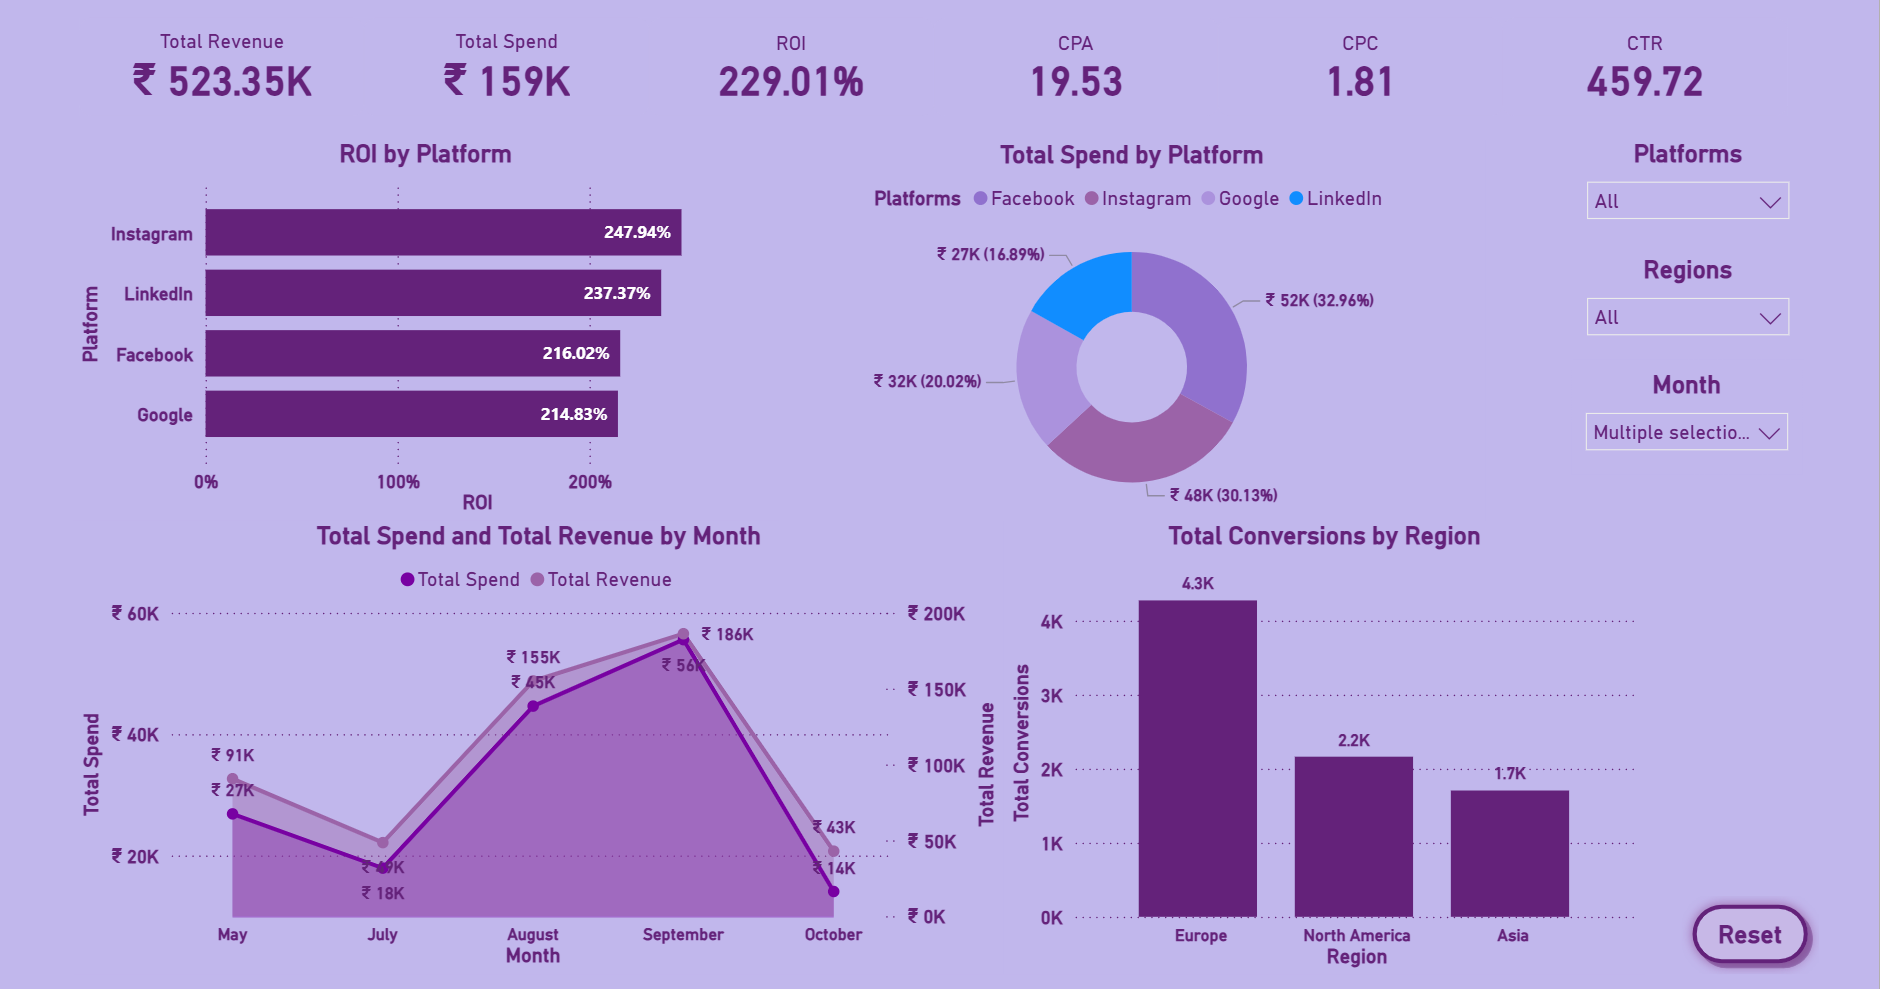

Layout of this report page (visuals, bound fields, positions):
{"tool":"powerbi","page":{"name":"Page 1","canvas":[1280,720],"ordinal":0},"visuals":[{"type":"cardVisual","fields":{"Data":["CampaignPerformance.Total Revenue","CampaignPerformance.Total Spend","CampaignPerformance.ROI","CampaignPerformance.CPA","CampaignPerformance.CPC","CampaignPerformance.CTR"]},"box":[10.3,8,1257.8,81.6],"z":0},{"type":"clusteredBarChart","fields":{"Category":["CampaignInfo.Platform"],"Y":["CampaignPerformance.ROI"]},"box":[10.3,101.1,513.5,278],"z":1000},{"type":"donutChart","fields":{"Category":["CampaignInfo.Platform"],"Y":["CampaignPerformance.Total Spend"]},"box":[523.8,102.2,513.5,278],"z":2000},{"type":"lineChart","fields":{"Category":["CampaignInfo.StartDate.Variation.Date Hierarchy.Month"],"Y":["CampaignPerformance.Total Spend"],"Y2":["CampaignPerformance.Total Revenue"]},"box":[10.7,379,676.2,329.2],"z":3000},{"type":"clusteredColumnChart","fields":{"Category":["CampaignInfo.Region"],"Y":["CampaignPerformance.Total Conversions"]},"box":[686.9,379.1,466.4,329.7],"z":4000},{"type":"slicer","title":"Platforms","fields":{"Values":["CampaignInfo.Platform"]},"box":[1100.7,101,167.6,76.1],"z":5000},{"type":"slicer","title":"Regions","fields":{"Values":["CampaignInfo.Region"]},"box":[1100.7,185.4,167.6,76.1],"z":7000},{"type":"slicer","title":"Month","fields":{"Values":["CampaignInfo.StartDate.Variation.Date Hierarchy.Month"]},"box":[1100.5,268.8,167.7,75.8],"z":8000},{"type":"actionButton","box":[1179.7,650.2,99.9,58.6],"z":8001}]}

Visuals, with their boxes on the page's 1280x720 design canvas (x1, y1, x2, y2). These are canvas units, not pixel positions in the 1880x989 screenshot, which may show the page scaled, cropped or inside an application window:
cardVisual - CampaignPerformance.Total Revenue x CampaignPerformance.Total Spend: <region>10, 8, 1268, 90</region>
clusteredBarChart - CampaignInfo.Platform x CampaignPerformance.ROI: <region>10, 101, 524, 379</region>
donutChart - CampaignInfo.Platform x CampaignPerformance.Total Spend: <region>524, 102, 1037, 380</region>
lineChart - CampaignInfo.StartDate.Variation.Date Hierarchy.Month x CampaignPerformance.Total Spend: <region>11, 379, 687, 708</region>
clusteredColumnChart - CampaignInfo.Region x CampaignPerformance.Total Conversions: <region>687, 379, 1153, 709</region>
"Platforms" slicer: <region>1101, 101, 1268, 177</region>
"Regions" slicer: <region>1101, 185, 1268, 262</region>
"Month" slicer: <region>1100, 269, 1268, 345</region>
actionButton: <region>1180, 650, 1280, 709</region>
